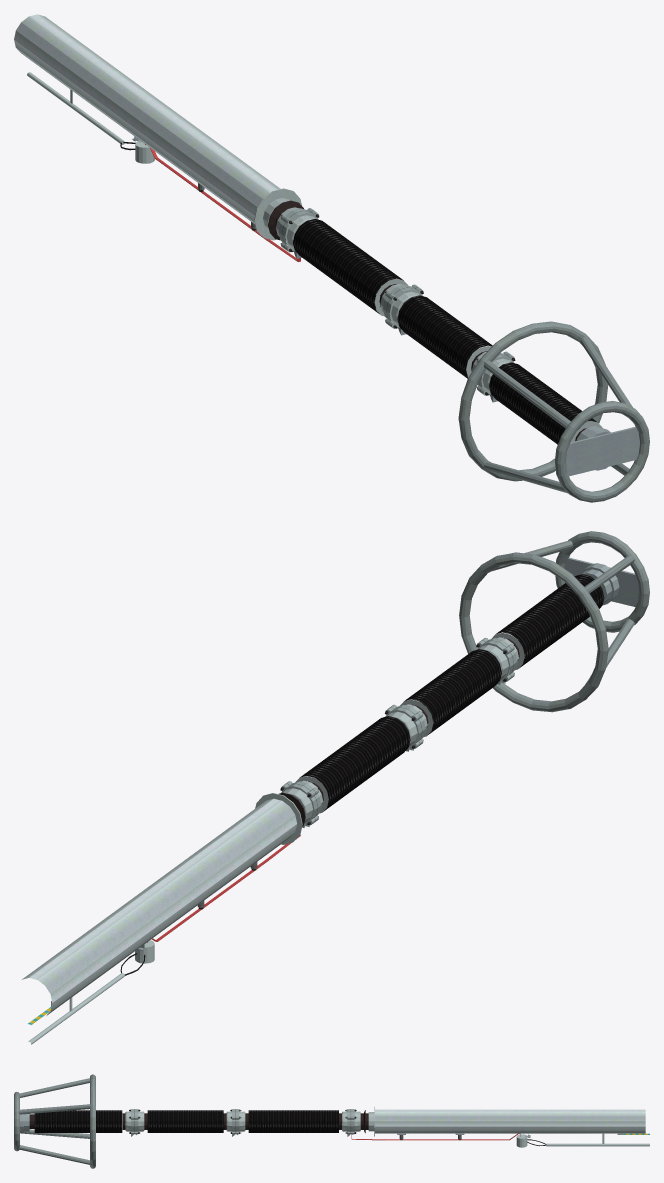
File: blq-11m00000002954786-geode.glb
3 views of the same model, one above another, from view 1: azimuth 30°, elevation 25°; view 2: azimuth 150°, elevation 25°; view 3: azimuth 270°, elevation 25° (orthographic). The views are drawn at different scales.
Visible parts, largest first — view 1: Node; view 2: Node; view 3: Node.
Part boxes in pixels (<box>): Node: <box>14,14,649,502</box>; Node: <box>22,531,649,1044</box>; Node: <box>14,1074,649,1168</box>.
Bounding box in the file's own units: 1.55 × 1.55 × 10.43.
Materials: 13 (13 with a texture image).
